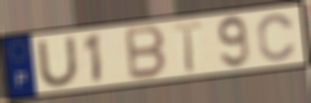1: (79, 32, 104, 86)
9: (217, 13, 253, 71)
B: (124, 23, 168, 82)
C: (256, 12, 298, 63)
T: (171, 19, 204, 75)
U: (34, 35, 82, 89)
